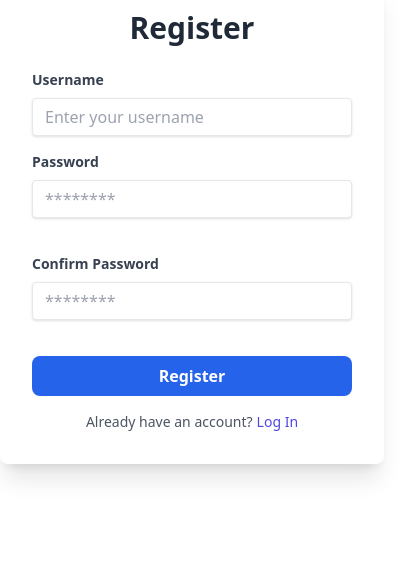
Test case: RegisterForm › validates password mismatch locally
Step 1. Type "newuser" into the field labelled "Username" → (192, 117), box [32, 98, 352, 136]
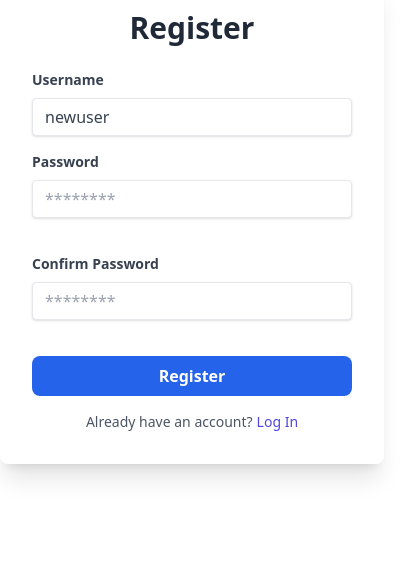
Step 2. Type "pass123" into the password field labelled "Password" → (192, 199), box [32, 180, 352, 218]
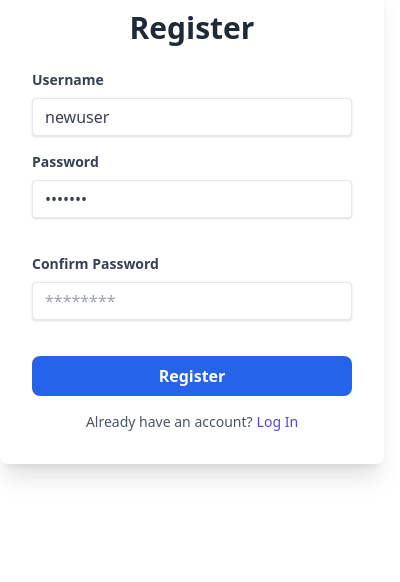
Step 3. Type "differentpass" into the password field labelled "Confirm Password" → (192, 301), box [32, 282, 352, 320]
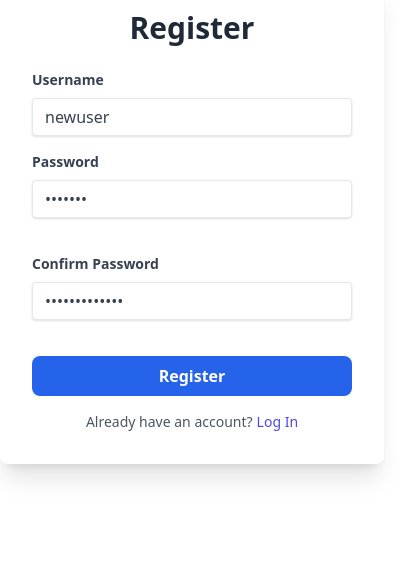
Step 4. Click the button "Register" → (192, 376), box [32, 356, 352, 396]
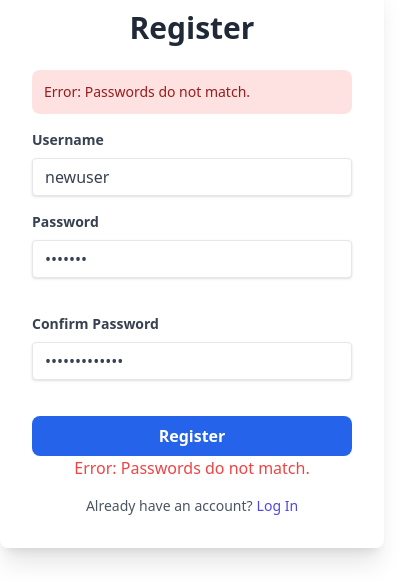
Now the 1st text "Error: Passwords do not match." is shown, box [32, 70, 352, 114]
